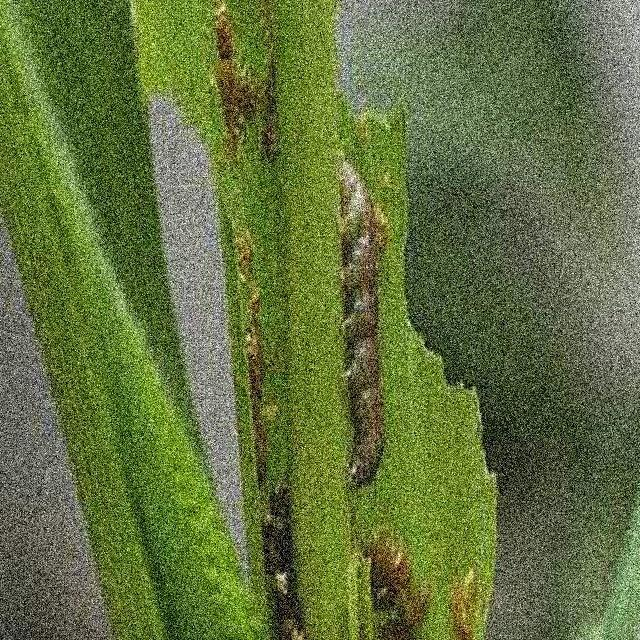worm: (336, 159, 390, 491)
